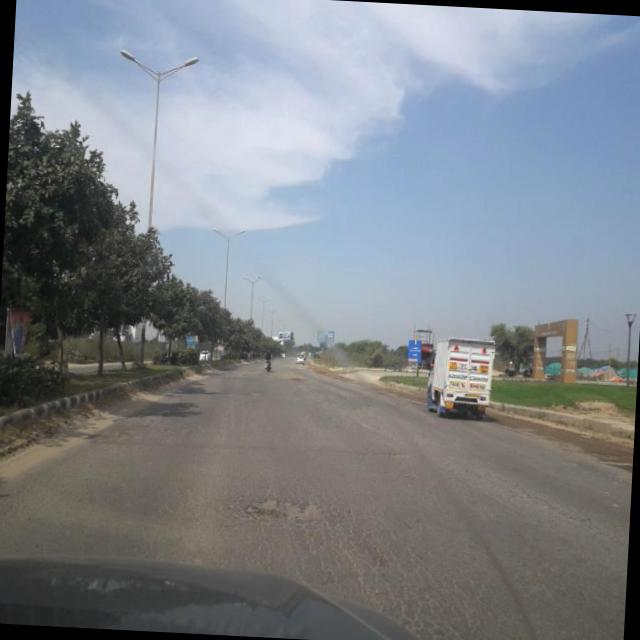crack: (127, 411, 616, 640)
pothole: (242, 495, 326, 525)
